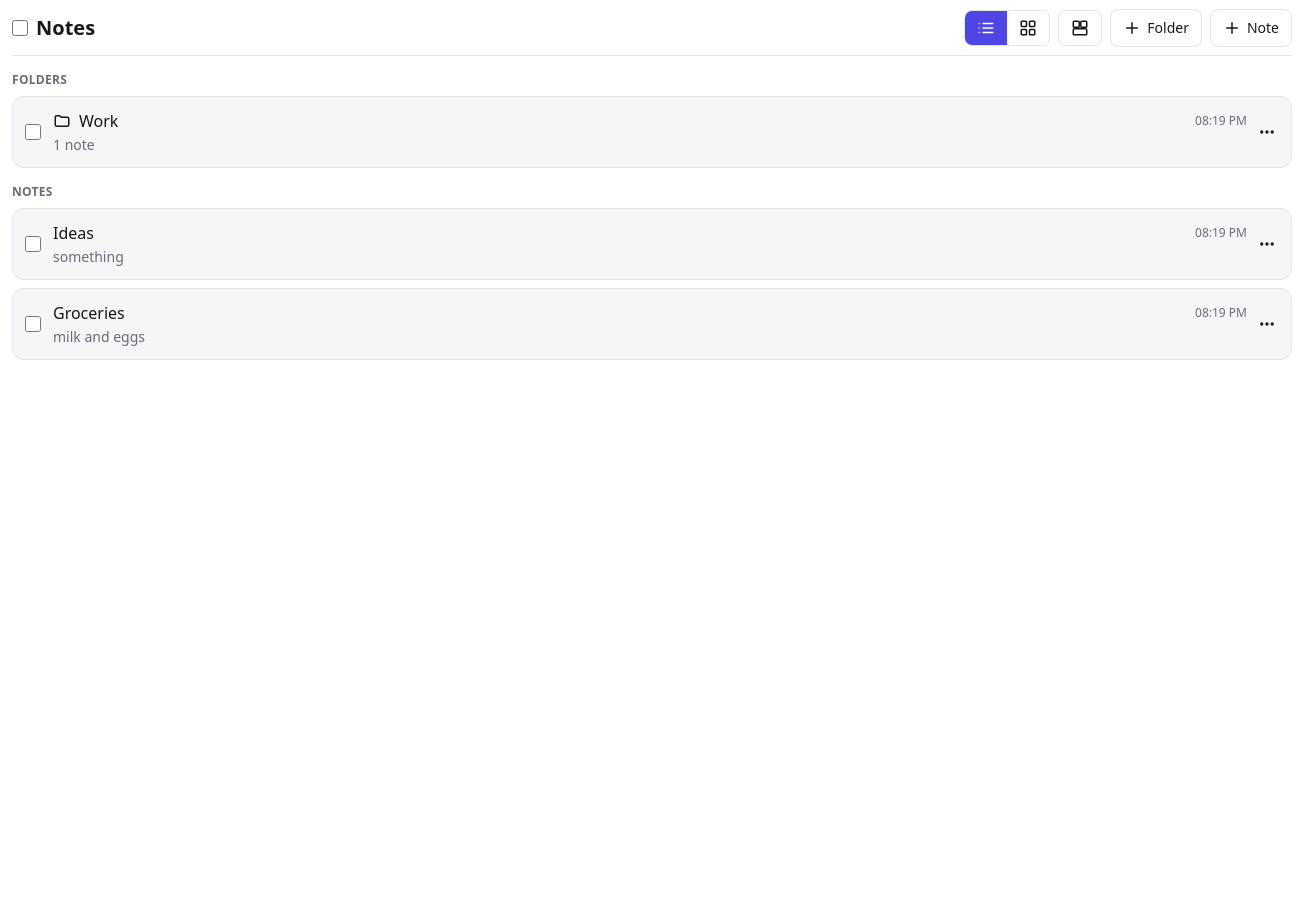
Test: the ⋯ options menu on each card › closes on Escape and on a click elsewhere
The width and height of the screenshot is (1304, 900).
Click the button named "Options for Groceries" at [1267, 324], box [1249, 306, 1285, 342]
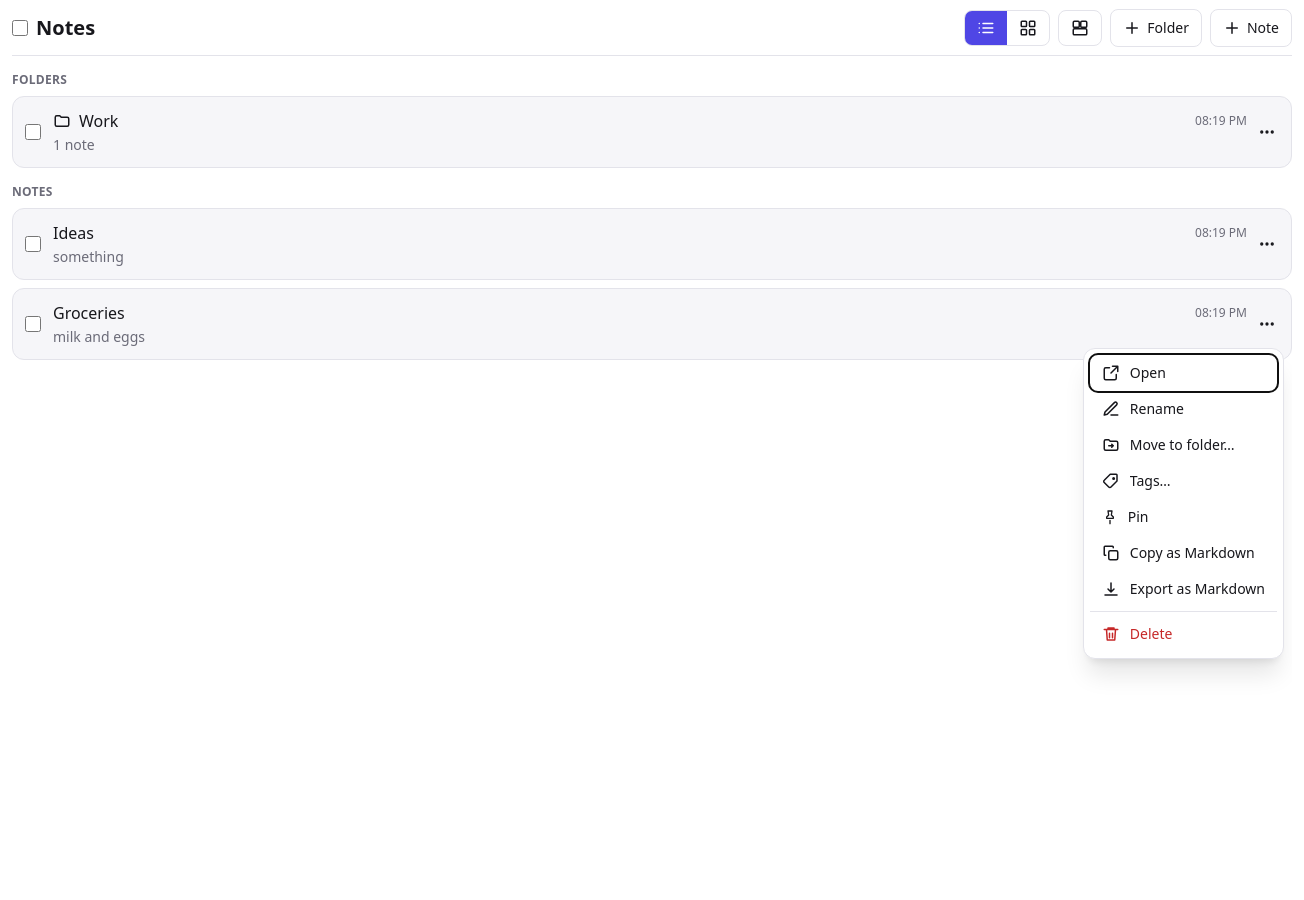
Press Escape
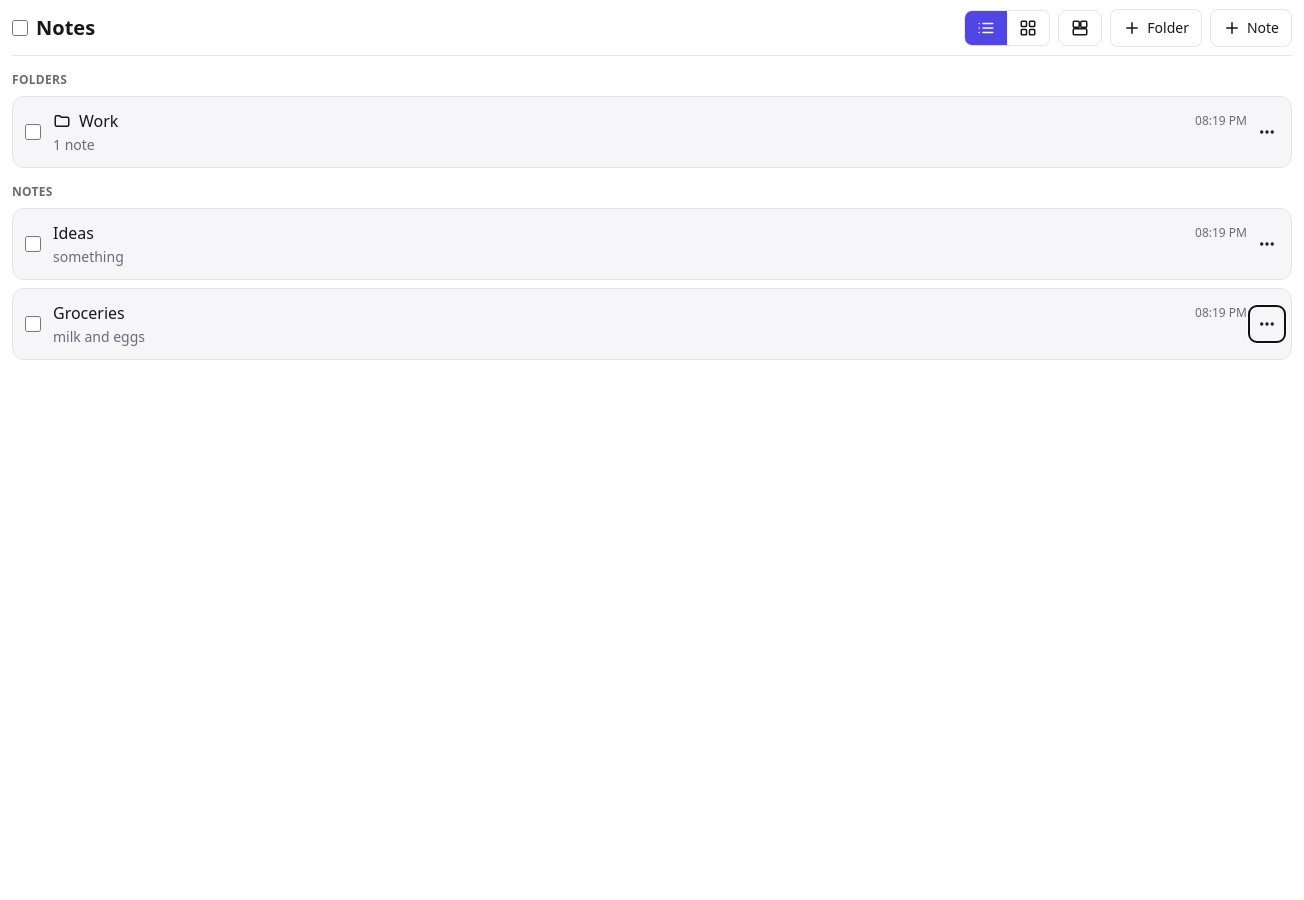
Expected: the menu is gone
Click the button named "Options for Groceries" at [1267, 324], box [1249, 306, 1285, 342]
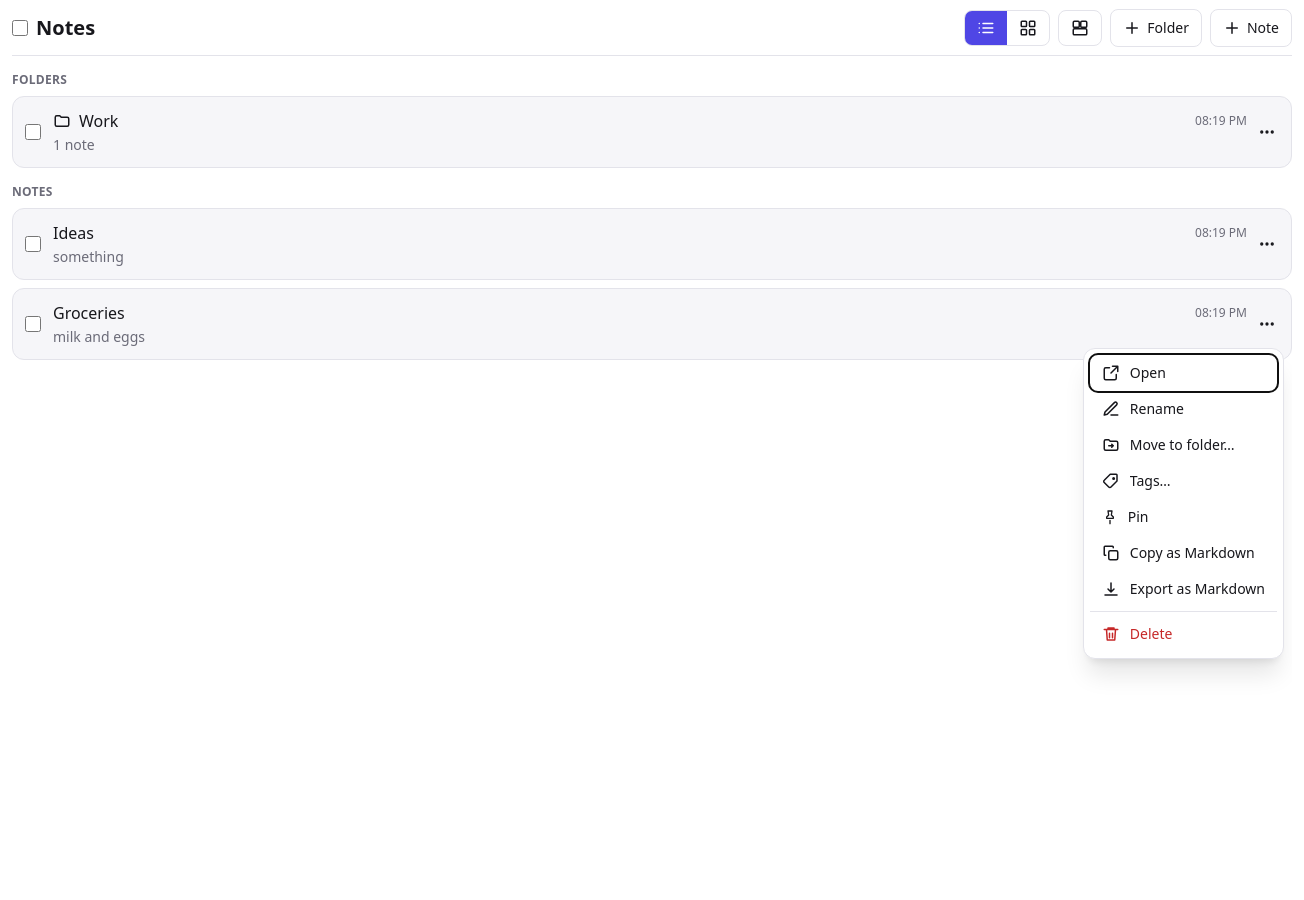
Click the element that starts with "Notes" at [652, 236], box [12, 0, 1292, 472]
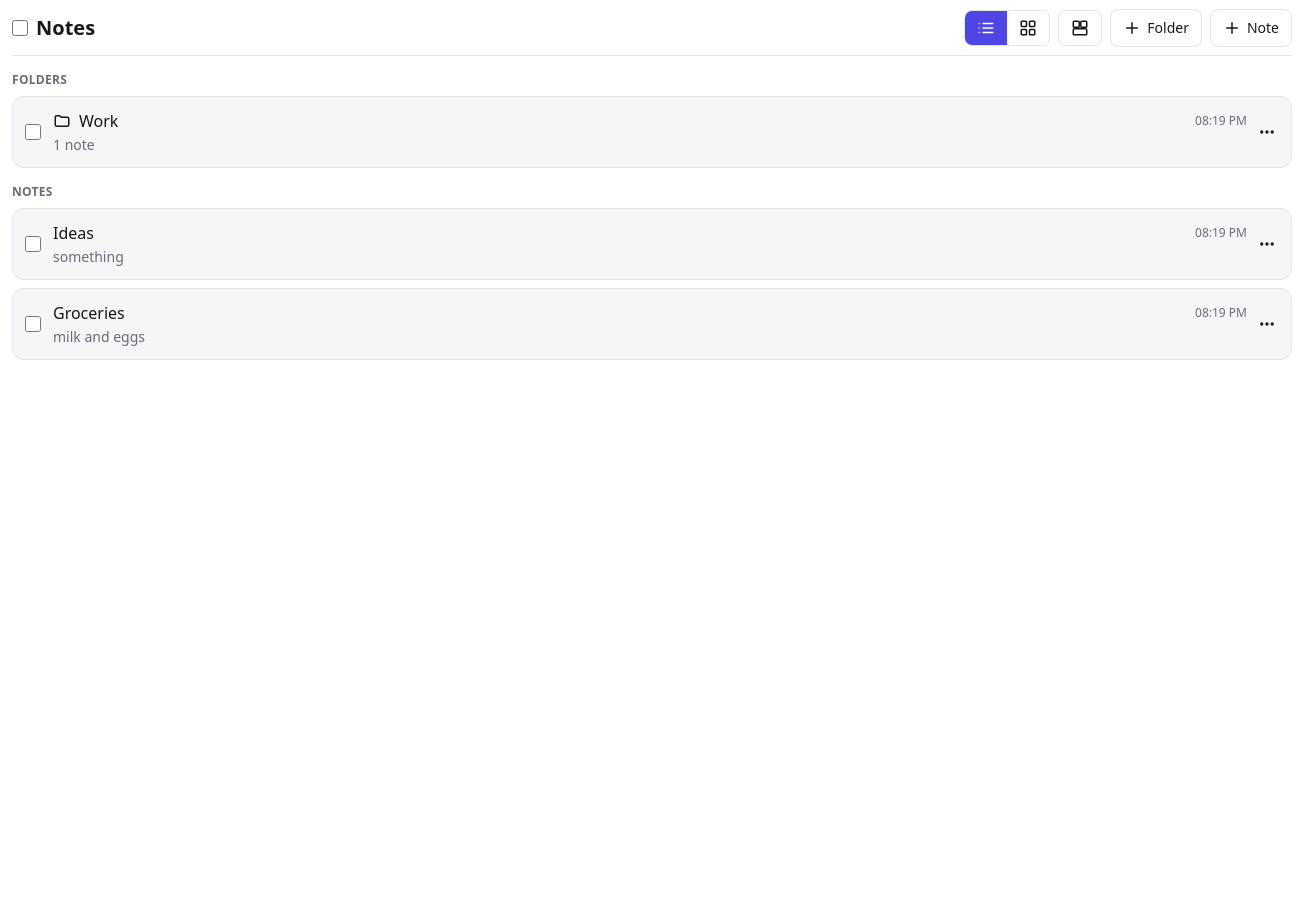
Expected: the menu is gone
